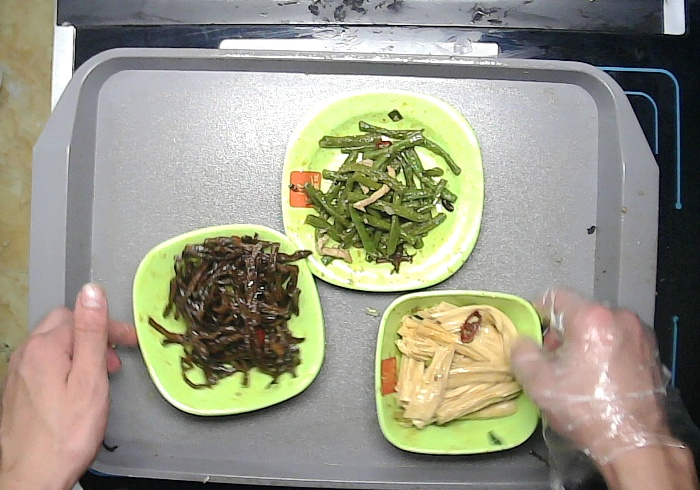SHKJ-Lv_Se_Cai_Die: (130, 222, 327, 415)
SHKJ-Lv_Se_Si_Fang_Cai_Die: (278, 91, 485, 293)
SHKJ-Lv_Se_Xiao_Fang_Die: (372, 290, 544, 455)
